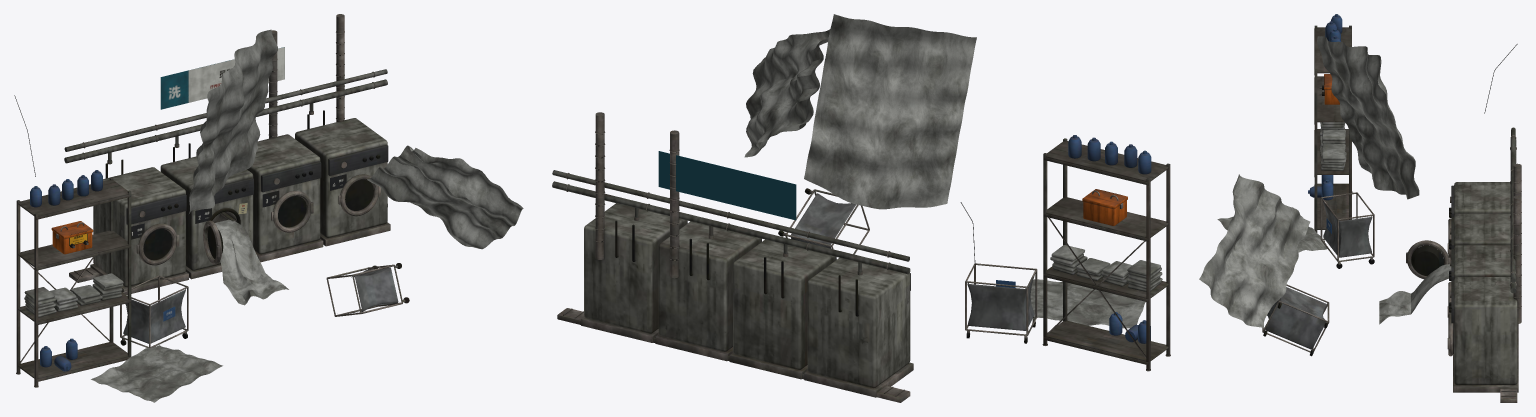
The model's file is laundry-row.glb.
3 views of the same model, side by side, from view 1: azimuth 30°, elevation 25°; view 2: azimuth 150°, elevation 25°; view 3: azimuth 270°, elevation 25° (orthographic). The views are drawn at different scales.
Visible parts, largest first — view 1: laundry-row, bedsheets, shelving, machine-doors, stencils, battery-case; view 2: laundry-row, bedsheets, shelving, stencils, battery-case; view 3: laundry-row, bedsheets, shelving, machine-doors, battery-case.
Boxes of the visible parts, x1,y1,x2,y2 form: laundry-row: [14, 14, 409, 347]; bedsheets: [91, 29, 523, 402]; shelving: [16, 170, 131, 387]; machine-doors: [136, 174, 380, 265]; stencils: [131, 47, 346, 321]; battery-case: [51, 221, 93, 254]; laundry-row: [552, 112, 1037, 402]; bedsheets: [744, 14, 1145, 328]; shelving: [1042, 135, 1170, 371]; stencils: [658, 151, 1015, 287]; battery-case: [1082, 189, 1127, 225]; laundry-row: [1262, 44, 1521, 402]; bedsheets: [1199, 36, 1451, 327]; shelving: [1308, 14, 1352, 232]; machine-doors: [1406, 218, 1453, 356]; battery-case: [1319, 74, 1339, 104].
Size of the model in its own units: 8.79 by 4.97 by 5.61.
4 materials, 4 textured.
